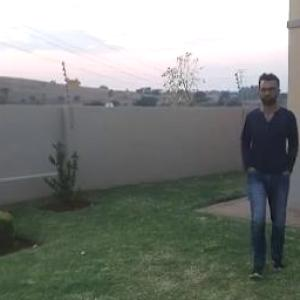follow: (235, 69, 299, 263)
